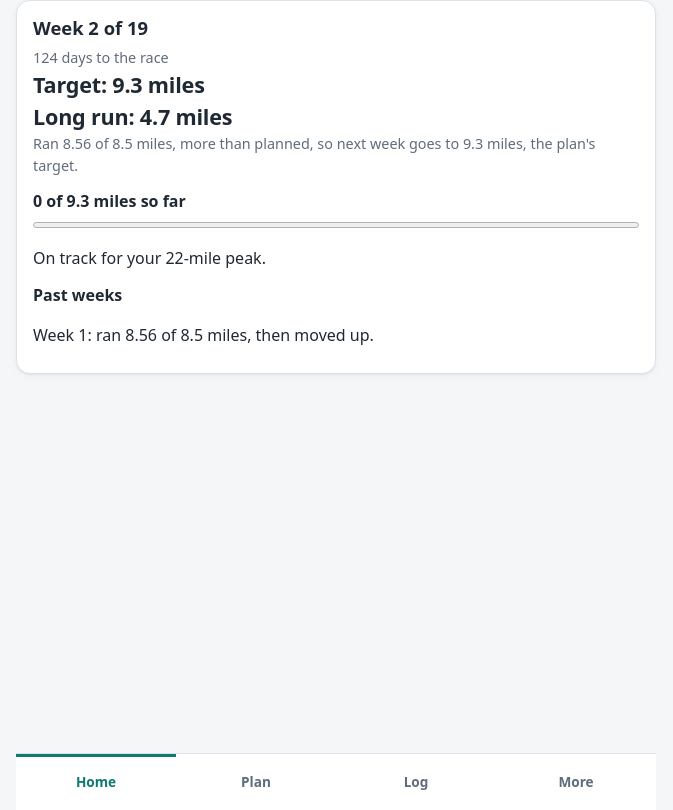
Test: Dashboard: runs › edits a run in place, without adding a duplicate
Expected: the navigation bar named "Main" is shown, left=16, top=753, right=656, bottom=809
Click the button "Log".
click(416, 782)  # box left=336, top=754, right=496, bottom=809
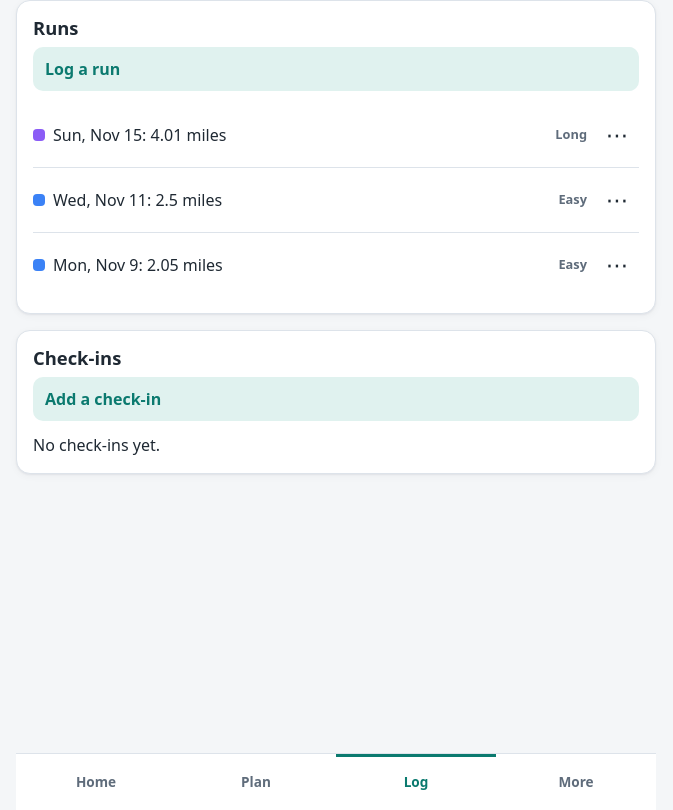
Click the button named "Actions for Sun, Nov 15 run".
click(617, 135)  # box left=595, top=113, right=639, bottom=157
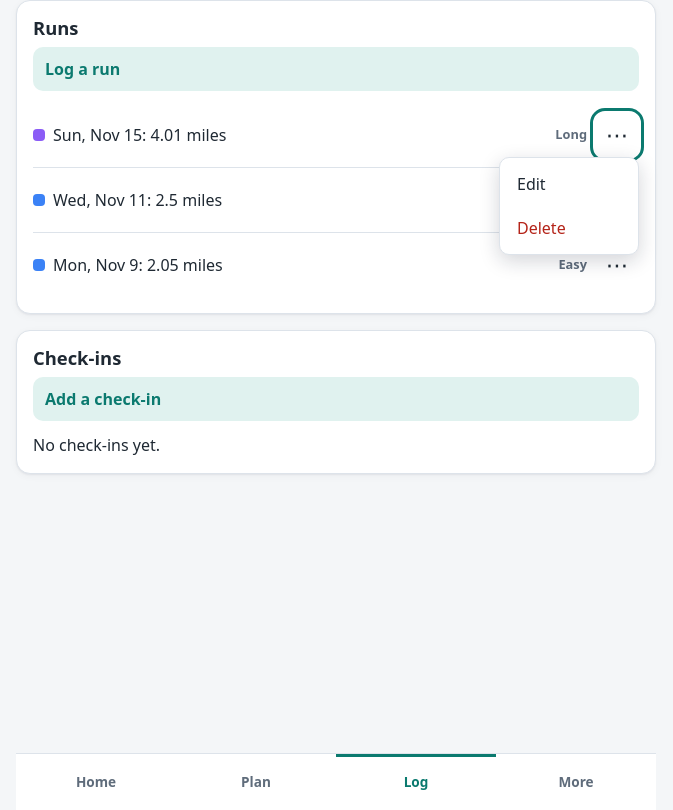
Click the menu item with aria-label "Edit Sun, Nov 15 run".
click(569, 184)  # box left=504, top=162, right=634, bottom=206
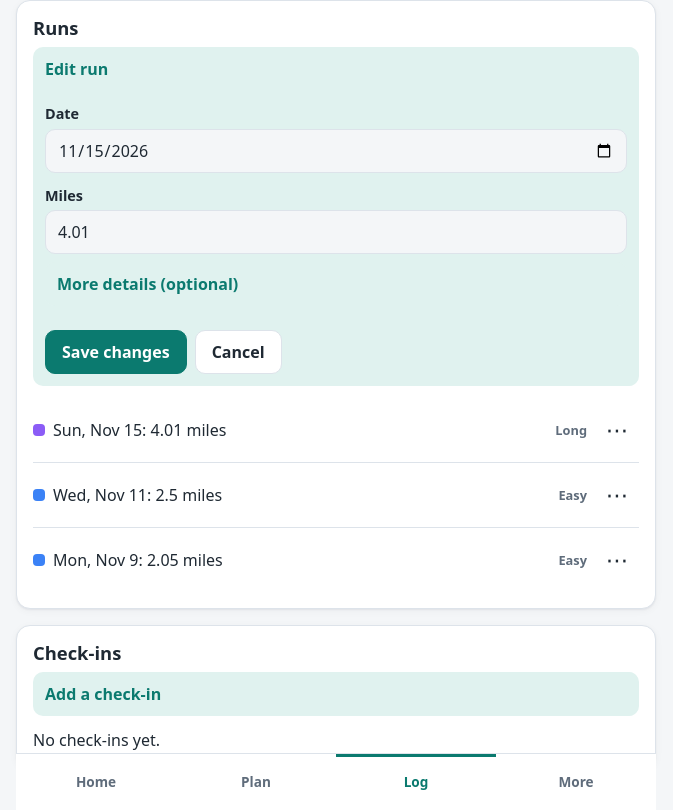
Expected: the number field labelled "Miles" holds "4.01"
Replace the text in the number field labelled "Miles" with "5" at (336, 232), box left=45, top=210, right=627, bottom=254
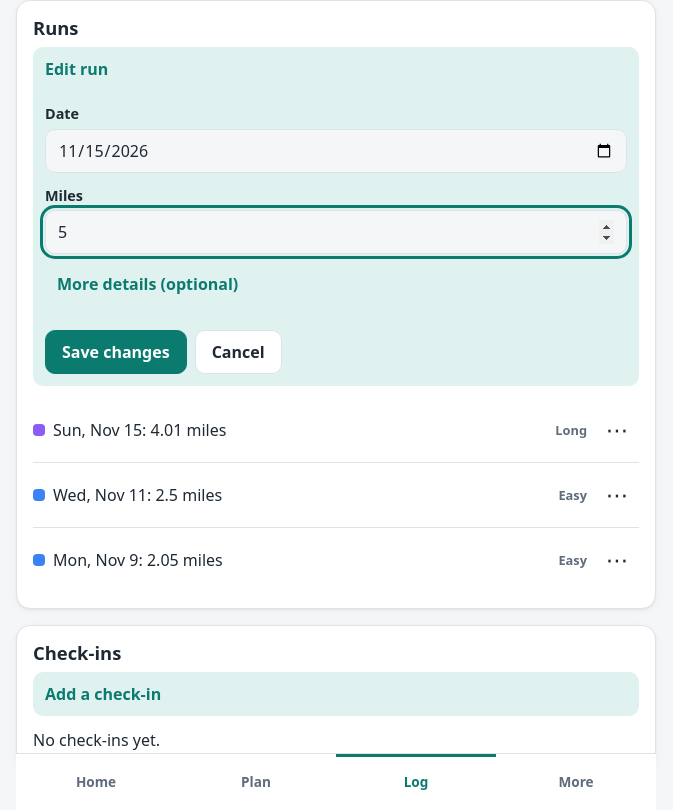
Click the button "Save changes".
click(116, 352)  # box left=45, top=330, right=187, bottom=374
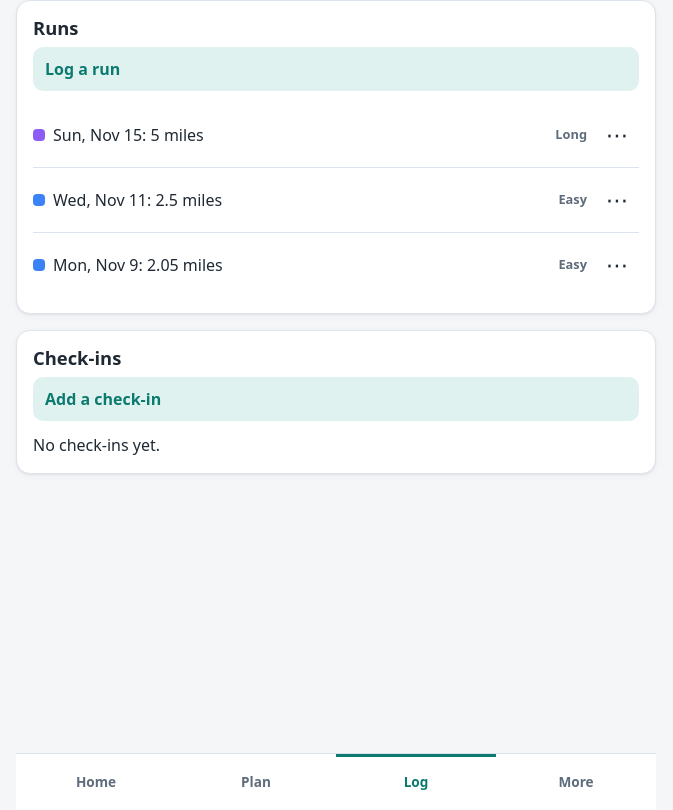
Expected: the button "Sun, Nov 15: 5 miles" is shown, left=53, top=117, right=547, bottom=153
